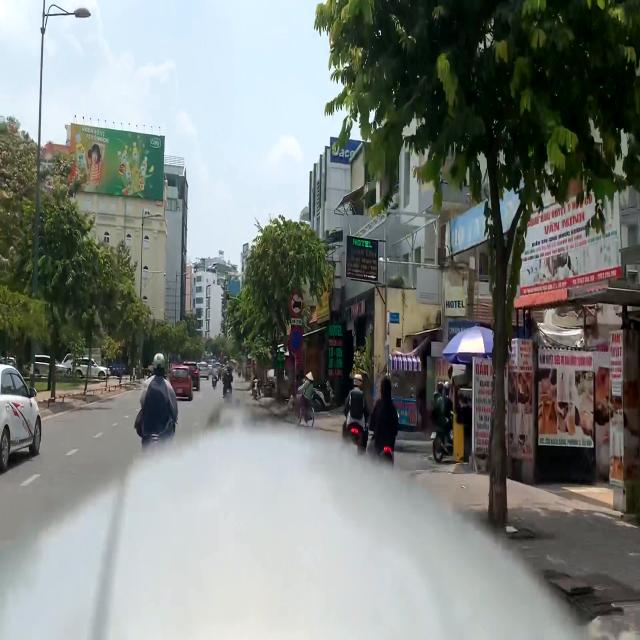P.106a: (289, 291, 304, 317)
P.131a: (289, 326, 303, 353)
